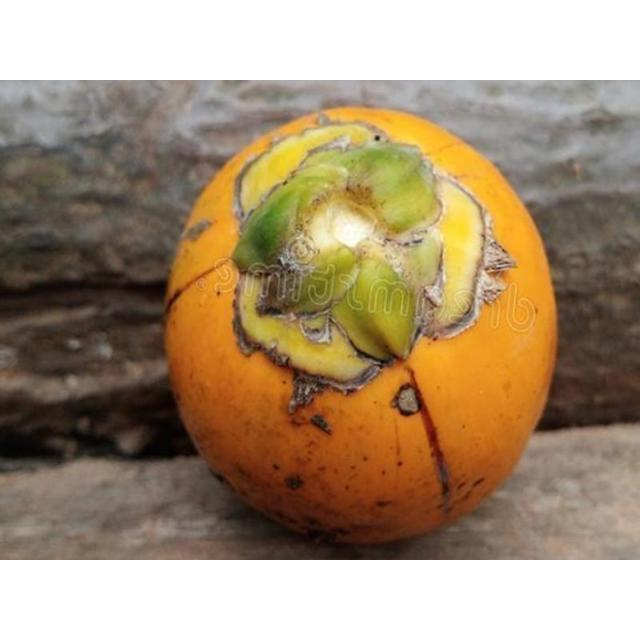good: (162, 107, 559, 547)
